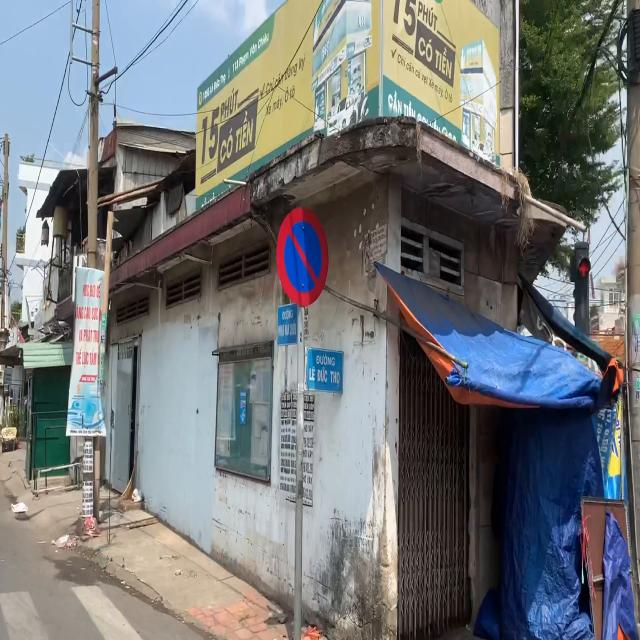Cam do: (278, 205, 331, 311)
